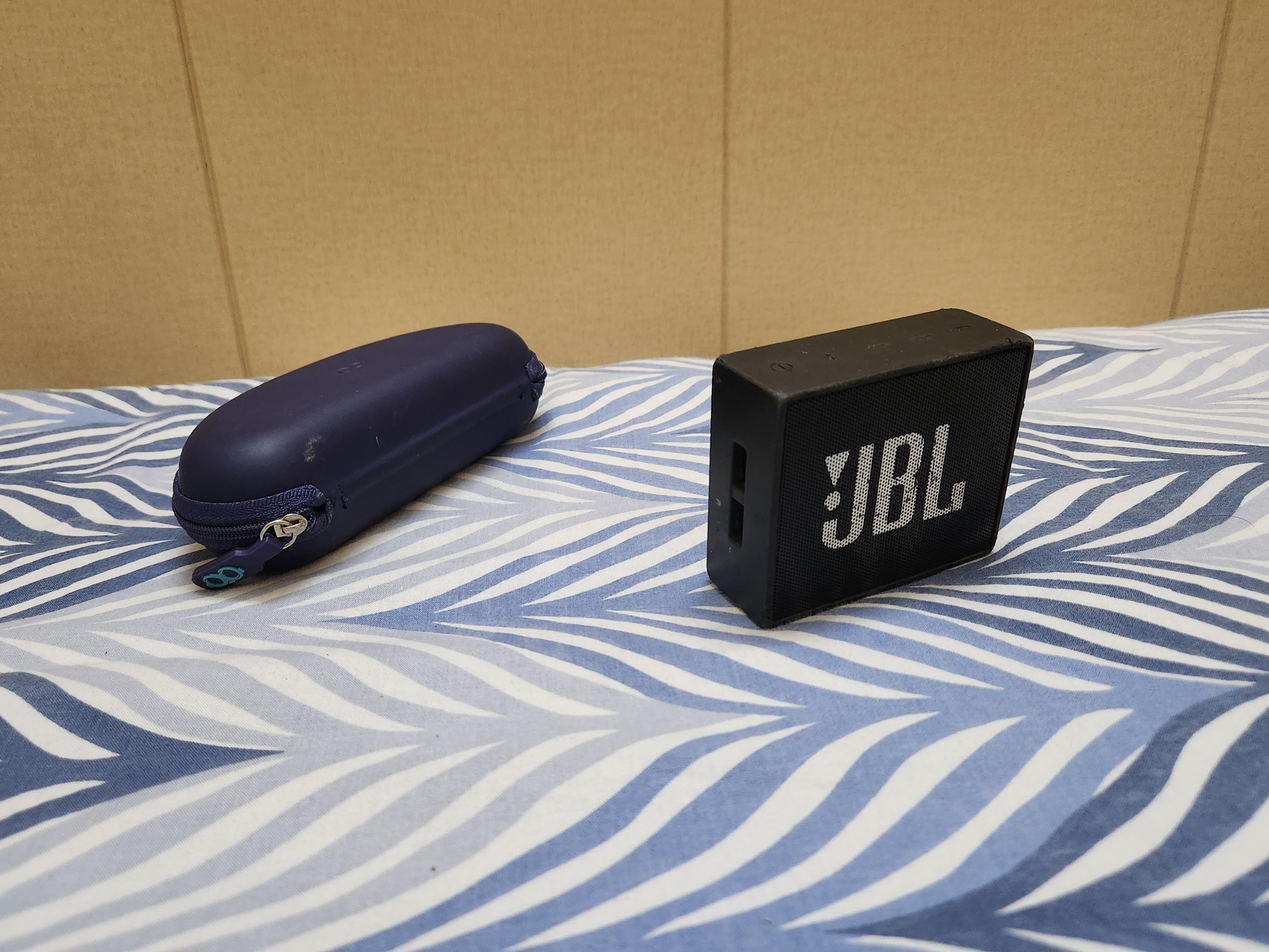case: (166, 318, 549, 594)
speaker: (704, 303, 1041, 631)
